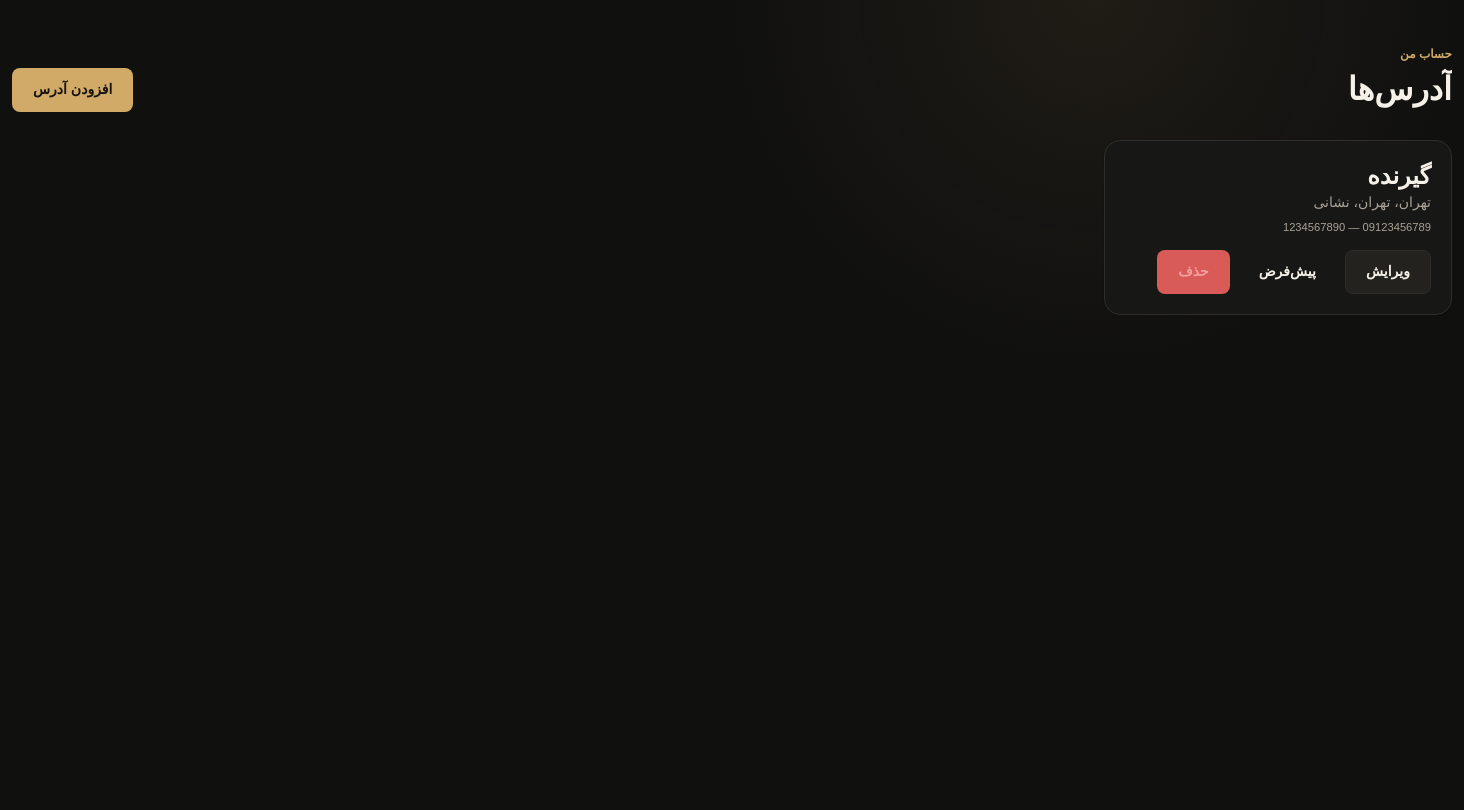
synchronizes API addresses with checkout and displays failed mutations without an unhandled rejection
Expected: the heading "گیرنده" is shown, [1367, 162, 1431, 189]
Click the button "حذف": point(1193, 272) [1157, 250, 1230, 294]
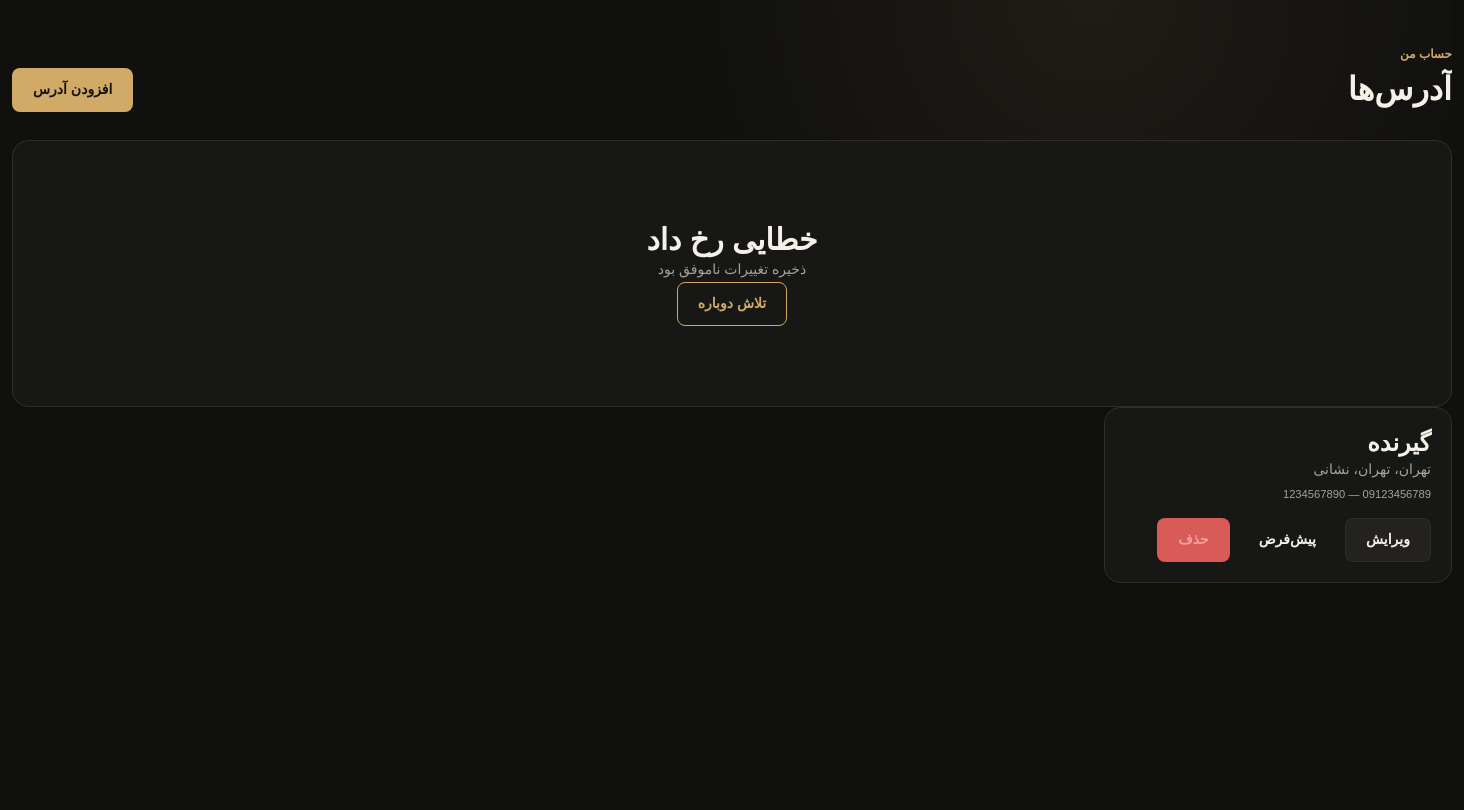
Expected: the heading "گیرنده" is shown, [1367, 429, 1431, 456]
Expected: the message "خطایی رخ داد ذخیره تغییرات ناموفق بود تلاش دوباره" is shown, [12, 140, 1452, 407]
